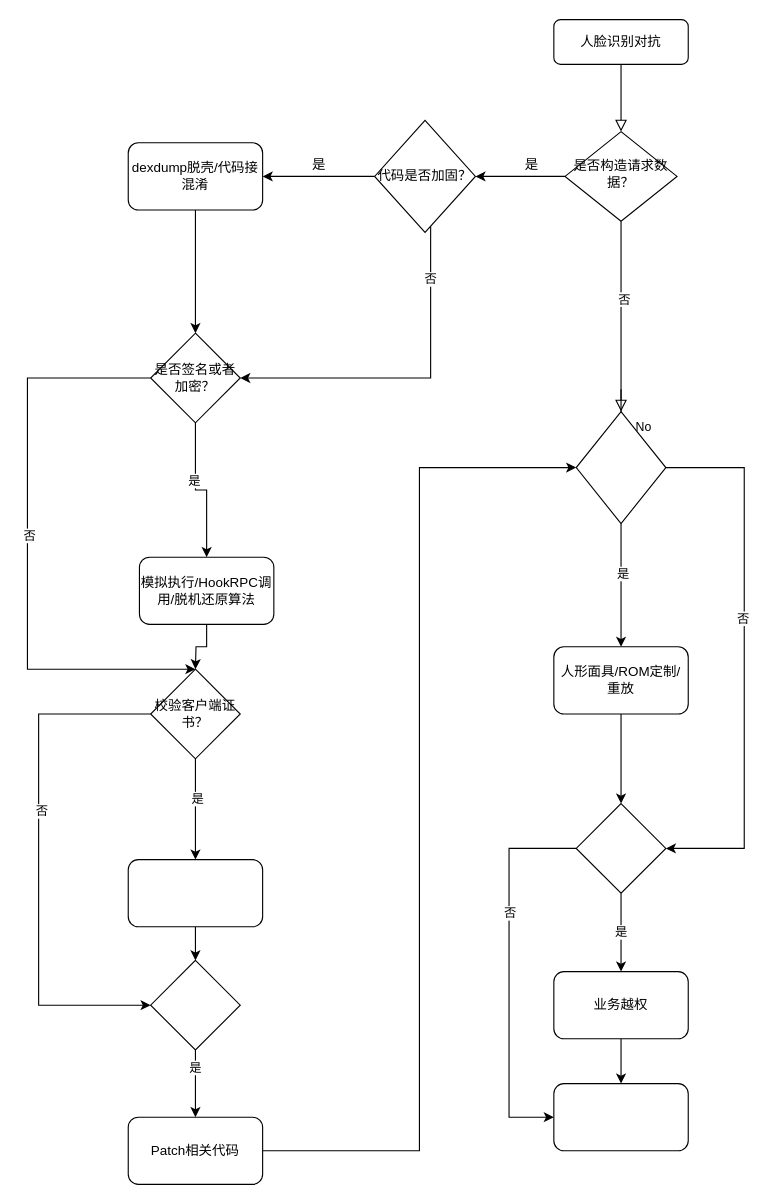
The diagram is 773 pixels wide and 1204 high, and some of its shapes have lost their labels. Each missing label, with the centre of its shape:
"人脸识别对抗完成" belongs at point (620, 1116).
"代理、vnp检测？" belongs at point (195, 1004).
"使用受害人人脸？" belongs at point (620, 467).
"带证书请求" belongs at point (195, 892).
"验证绑定关系？" belongs at point (620, 847).
